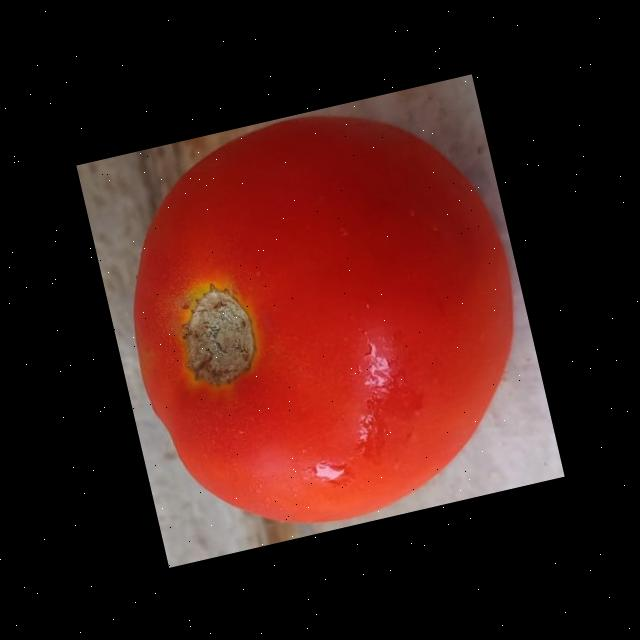tomato: (82, 84, 550, 560)
